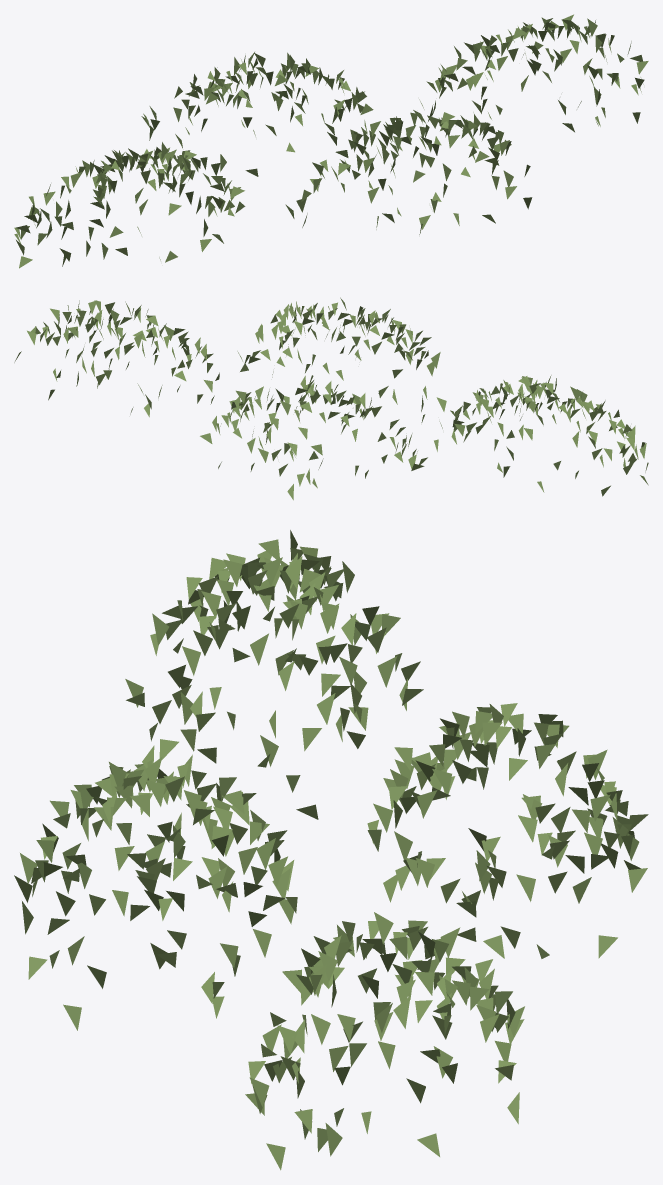
File: teaching3-vegetation-01-medium.glb
3 renders of one model, top to bottom at view 1: azimuth 30°, elevation 25°; view 2: azimuth 150°, elevation 25°; view 3: azimuth 270°, elevation 25°, orthographic. The views are drawn at different scales.
Visible parts, largest first — view 1: shrubs.001; view 2: shrubs.001; view 3: shrubs.001.
Boxes of the visible parts, x1,y1,x2,y2 form: shrubs.001: (14,14,648,268); shrubs.001: (14,297,648,500); shrubs.001: (14,530,648,1170).
Size of the model in its own units: 11.51 by 1.66 by 5.52.
